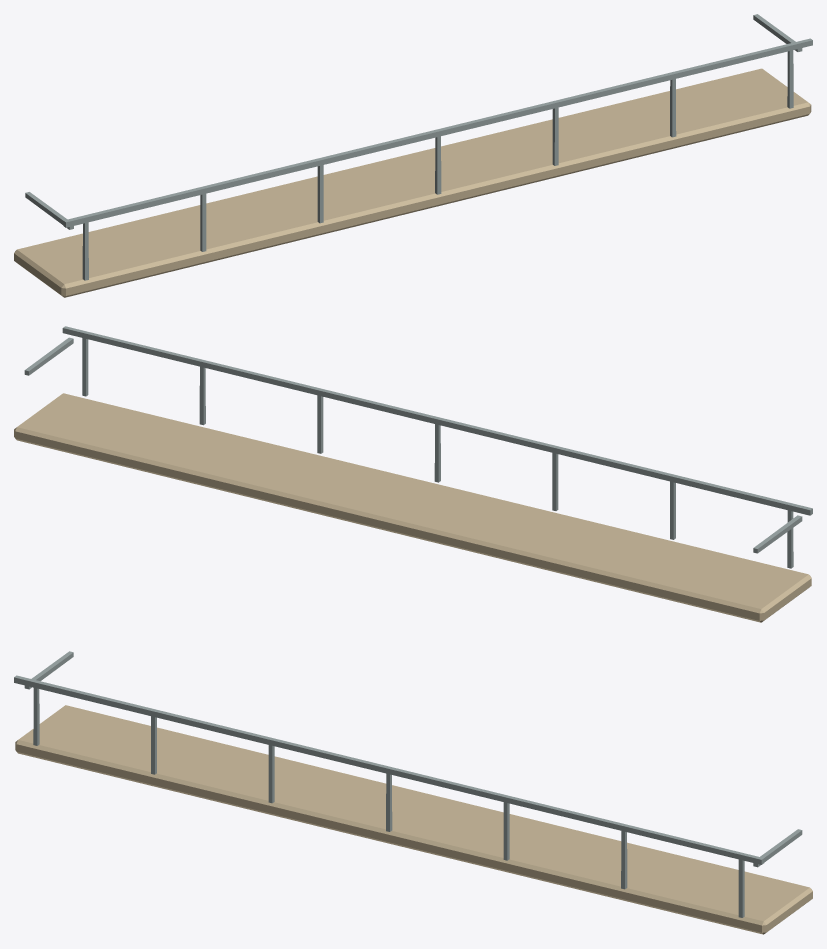
The model's file is balcony.glb.
3 views of the same model, one above another, from view 1: azimuth 30°, elevation 25°; view 2: azimuth 150°, elevation 25°; view 3: azimuth 330°, elevation 25° (orthographic).
Parts seen in each view (by area): view 1: WB002V2_BalconyDeck.005, WB002V2_BalconyRailSide.001; view 2: WB002V2_BalconyDeck.005, WB002V2_BalconyRailSide.001; view 3: WB002V2_BalconyDeck.005, WB002V2_BalconyRailSide.001.
Boxes of the visible parts, x1=… form: WB002V2_BalconyDeck.005: x1=14, y1=68, x2=811, y2=297; WB002V2_BalconyRailSide.001: x1=25, y1=14, x2=812, y2=280; WB002V2_BalconyDeck.005: x1=14, y1=393, x2=811, y2=622; WB002V2_BalconyRailSide.001: x1=24, y1=326, x2=812, y2=568; WB002V2_BalconyDeck.005: x1=15, y1=705, x2=812, y2=934; WB002V2_BalconyRailSide.001: x1=14, y1=651, x2=802, y2=917.
Bounding box in the file's own units: 11.5 × 1.14 × 1.38.
